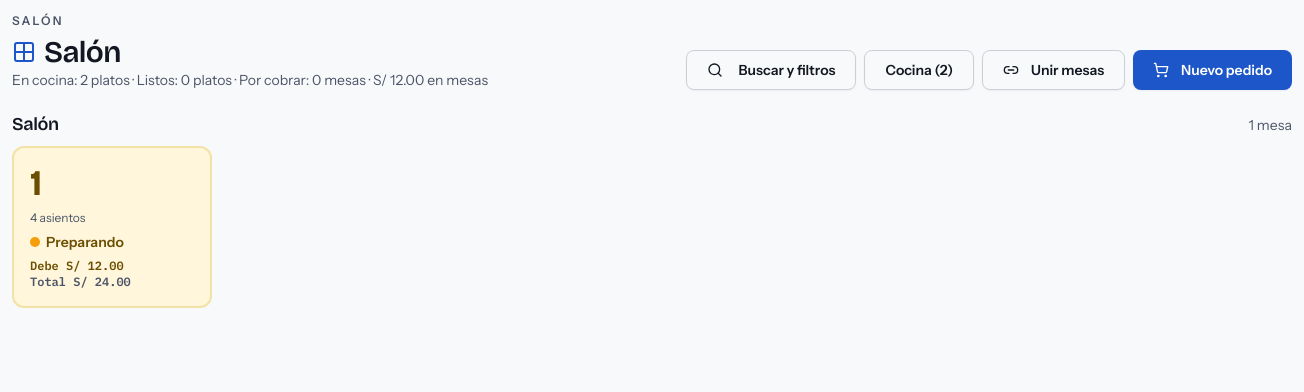
Scenario: hoja de mesa · paridad del prototipo (Slice 2) › S2-1 muestra el desglose también con una sola cuenta
Click the element with test id "mesa-card-1".
click(112, 227)  # box [12,146,212,308]
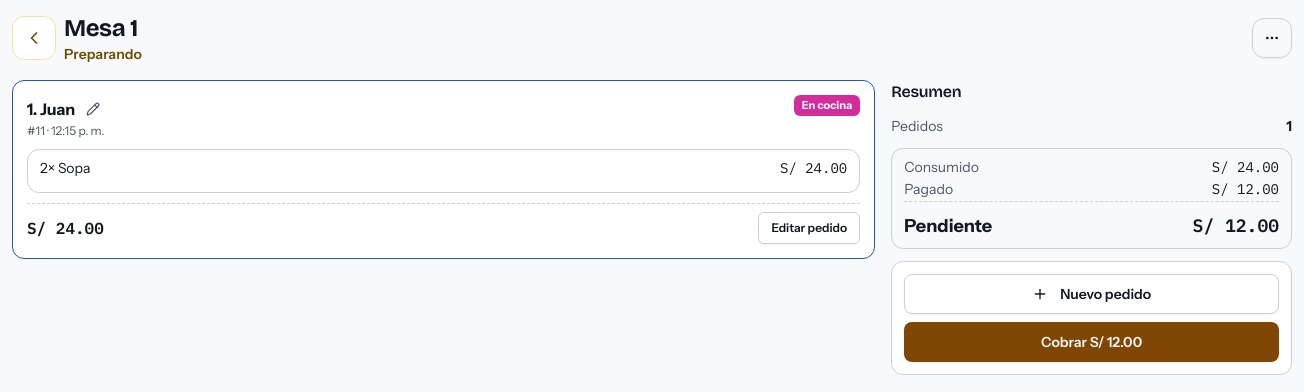
Expected: the element with test id "mesa-sheet-consumido" is shown, [904,157,1279,177]
Expected: the element with test id "mesa-sheet-consumido" shows "24.00", [1212,158,1279,176]
Expected: the element with test id "mesa-sheet-pagado" is shown, [904,179,1279,199]
